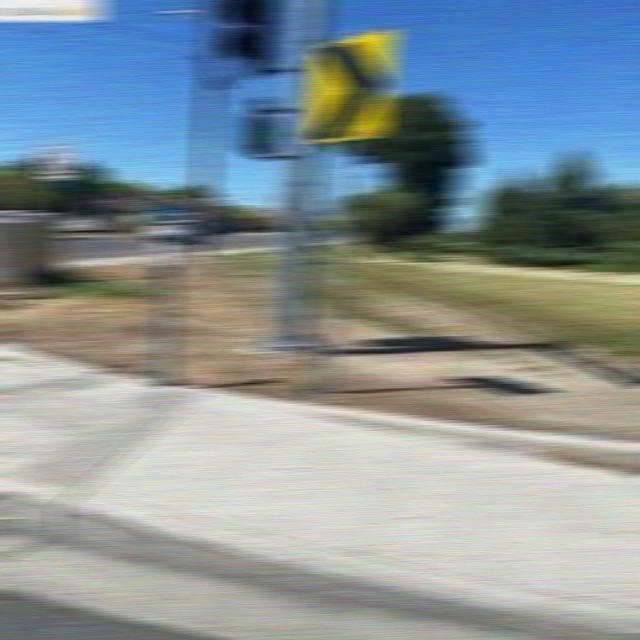speedLimit25: (38, 143, 77, 183)
